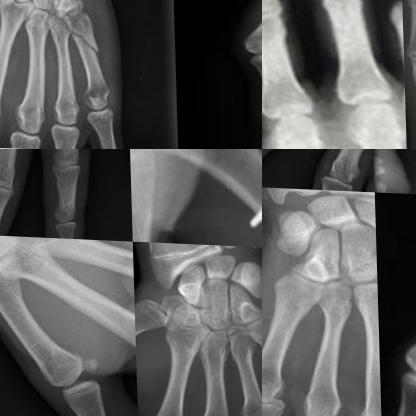fracture: (234, 161, 261, 248), (66, 20, 102, 59)
